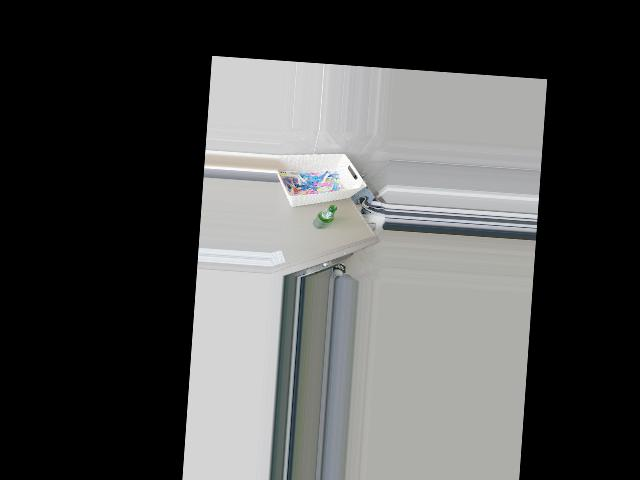beer: (313, 204, 337, 230)
